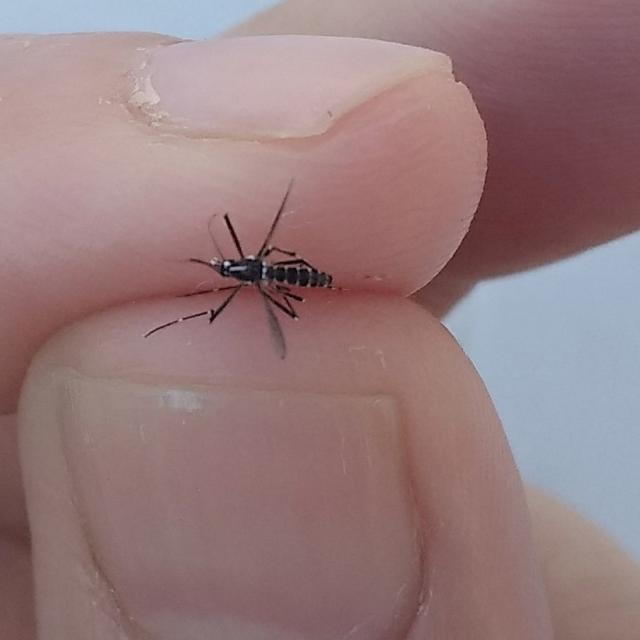albopictus: (145, 172, 358, 362)
